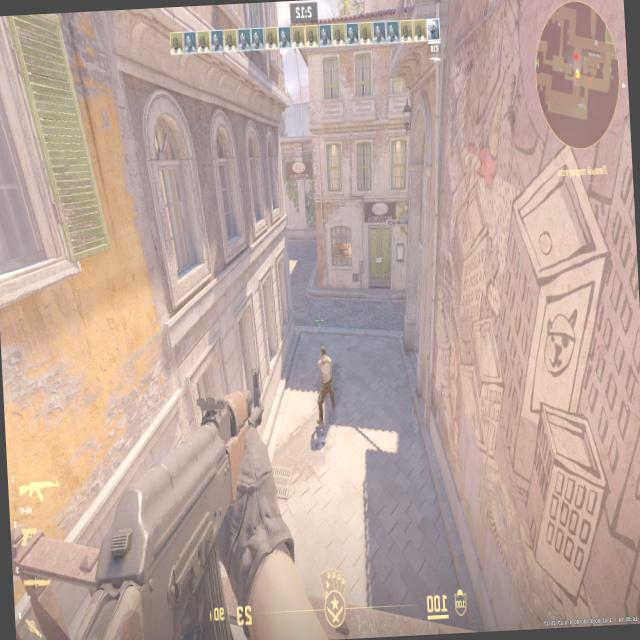T: (318, 346, 338, 416)
T_heat: (321, 352, 327, 366)
